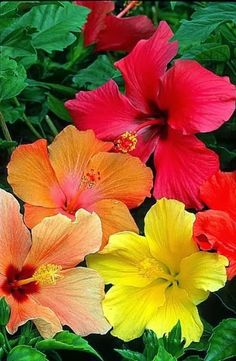Hibiscus: (82, 24, 236, 198), (7, 113, 144, 233), (110, 199, 224, 337), (1, 191, 107, 336), (68, 1, 166, 45), (191, 166, 235, 252)
